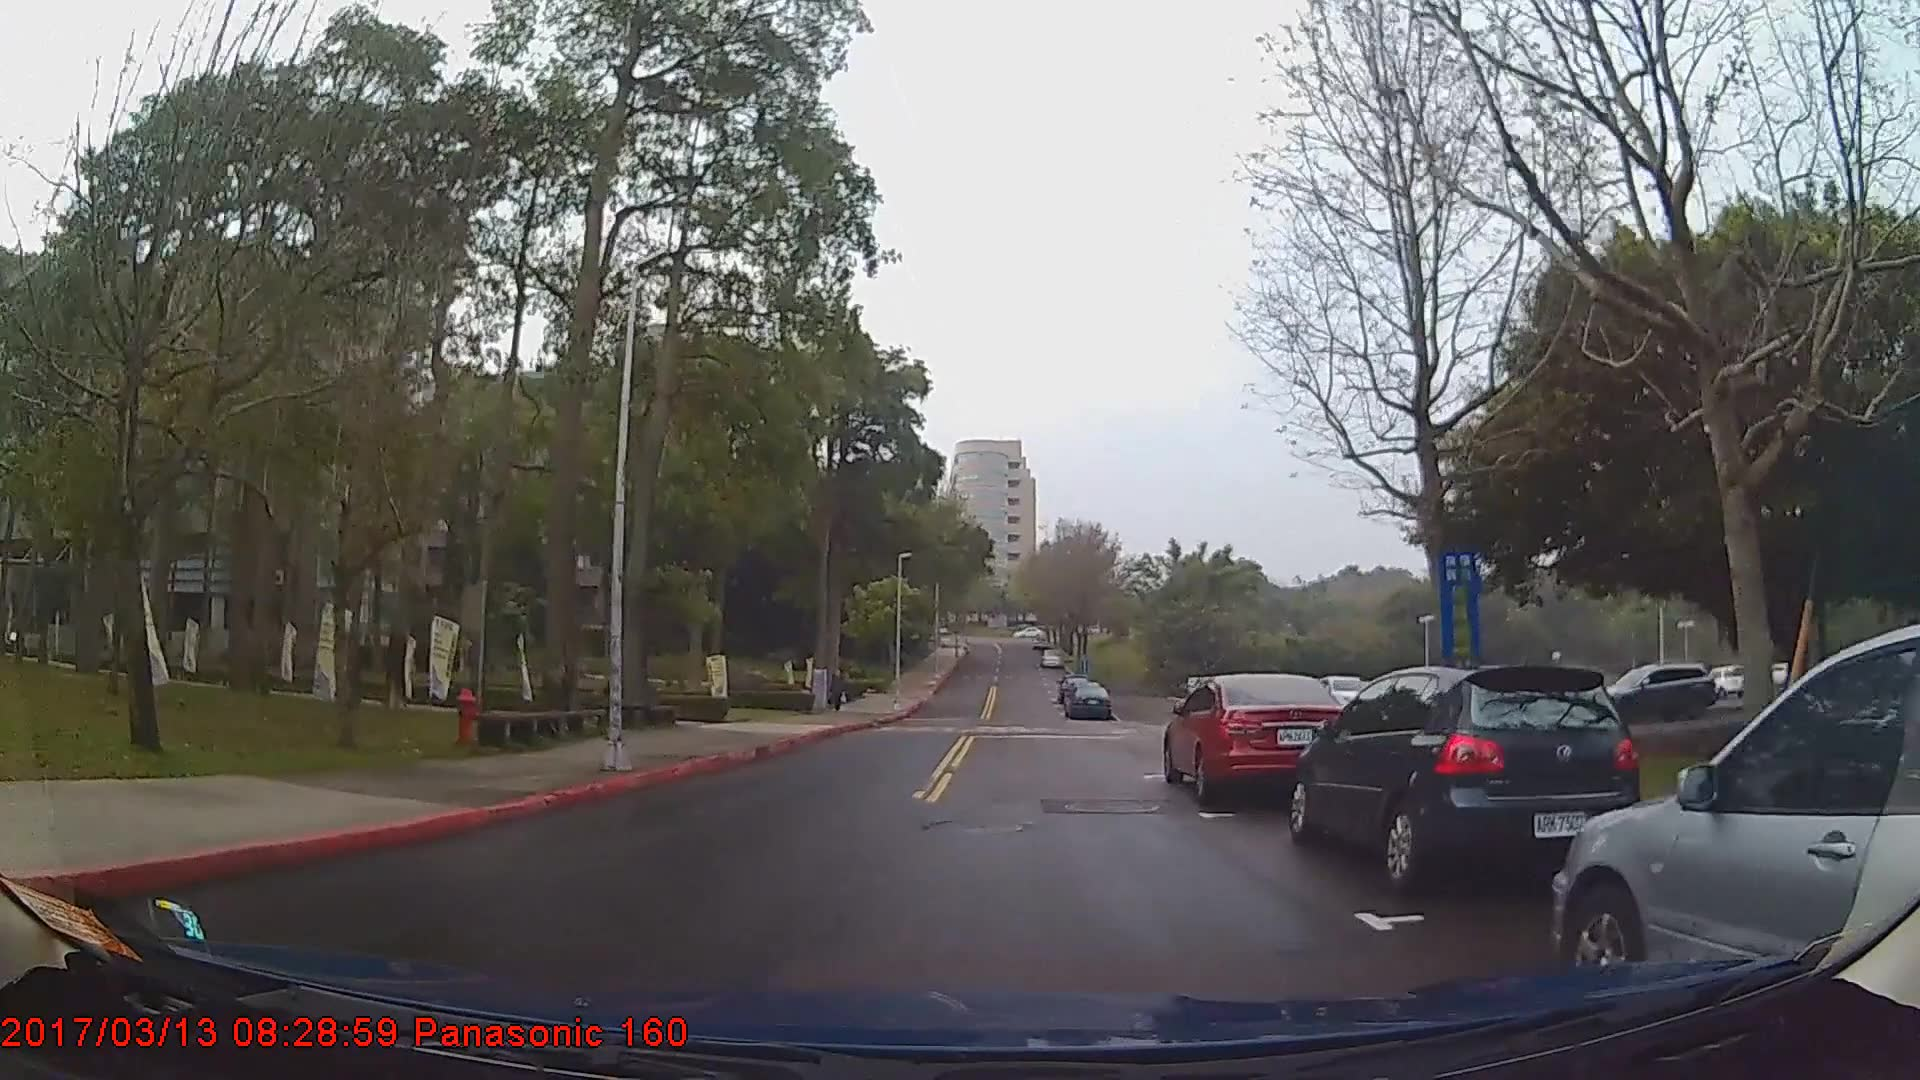vehicle: (1552, 625, 1919, 977), (1286, 665, 1630, 887), (1162, 675, 1348, 804), (1585, 661, 1718, 721), (1064, 680, 1113, 721)
